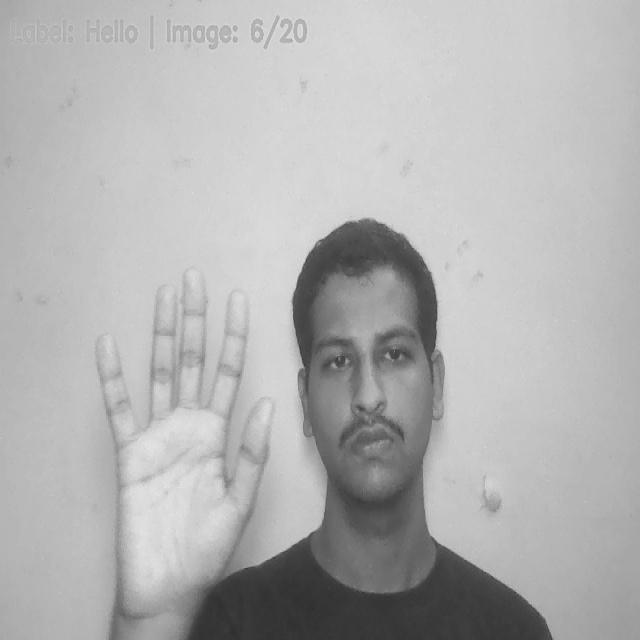Hello: (92, 269, 268, 596)
